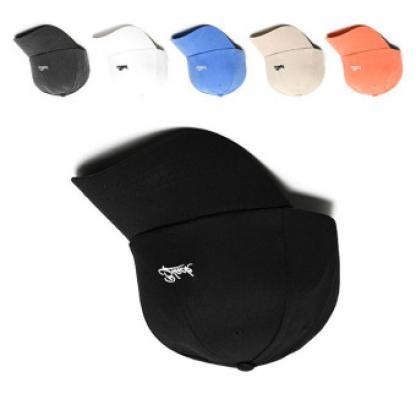cap: (63, 128, 342, 377), (91, 23, 171, 97), (249, 24, 328, 98), (12, 24, 91, 97), (330, 23, 405, 98), (172, 24, 247, 96)
